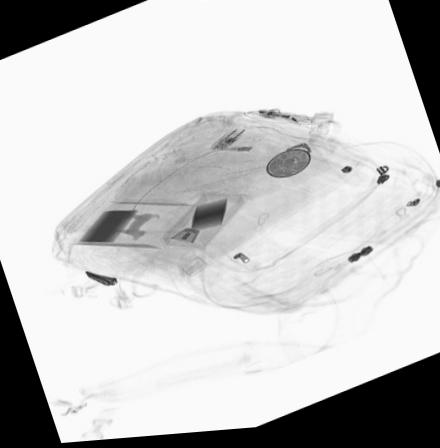Lighter: (252, 113, 300, 126)
